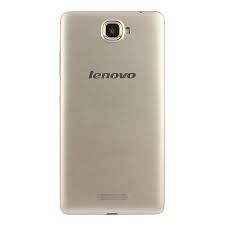lenovo: (55, 7, 167, 218)
